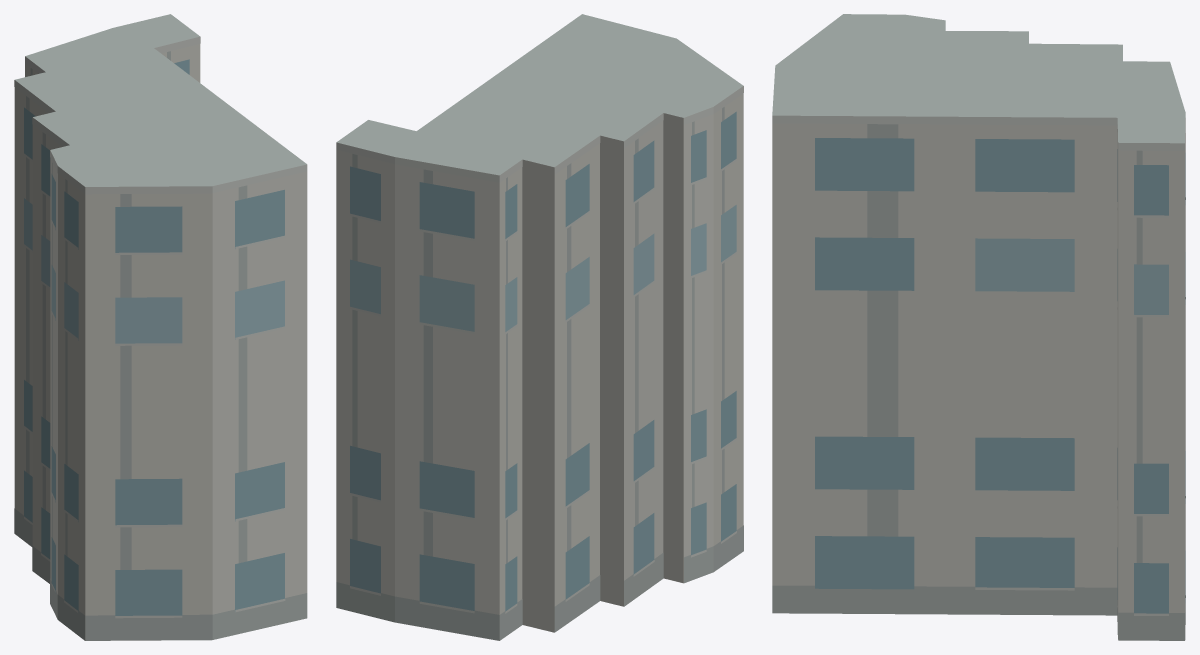
Rendered from survey-upis-32592428.glb.
The picture shows the model from 3 angles, left to right: view 1: azimuth 30°, elevation 25°; view 2: azimuth 150°, elevation 25°; view 3: azimuth 270°, elevation 25°; orthographic projection. The views are drawn at different scales.
Visible parts, largest first — view 1: survey-upis-32592428.tmp; view 2: survey-upis-32592428.tmp; view 3: survey-upis-32592428.tmp.
Part boxes in pixels (bbox=[...]): survey-upis-32592428.tmp: bbox=[14, 14, 307, 640]; survey-upis-32592428.tmp: bbox=[336, 14, 743, 640]; survey-upis-32592428.tmp: bbox=[772, 14, 1185, 640].
Size of the model in its own units: 8.59 by 15.4 by 11.61.
